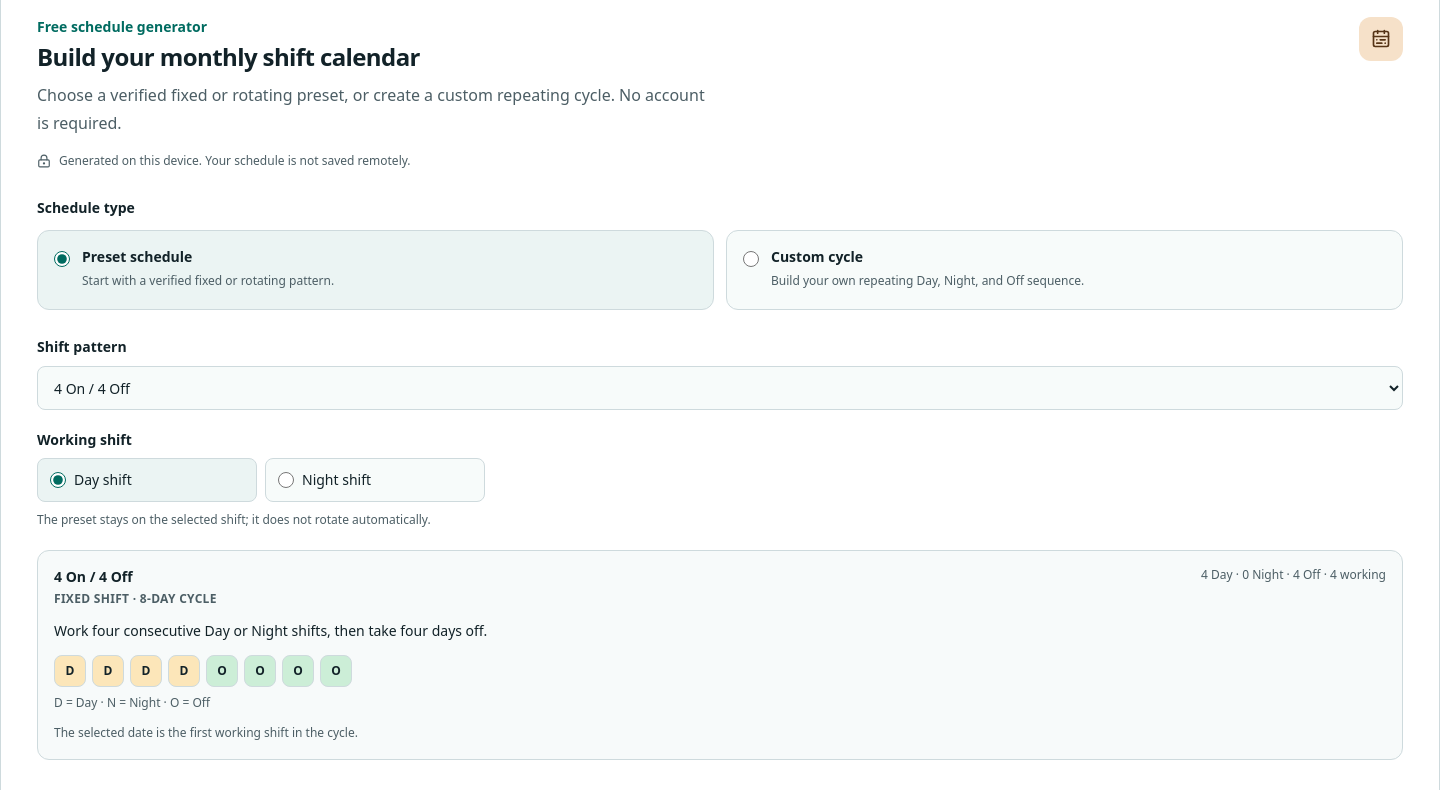
Test case: optional personal shift details › shows both definitions for rotating and mixed custom schedules
Select "2 Day / 2 Night / 4 Off" in the dropdown labelled "Shift pattern" at (720, 388), box [37,366,1403,410]
(page scrolled)
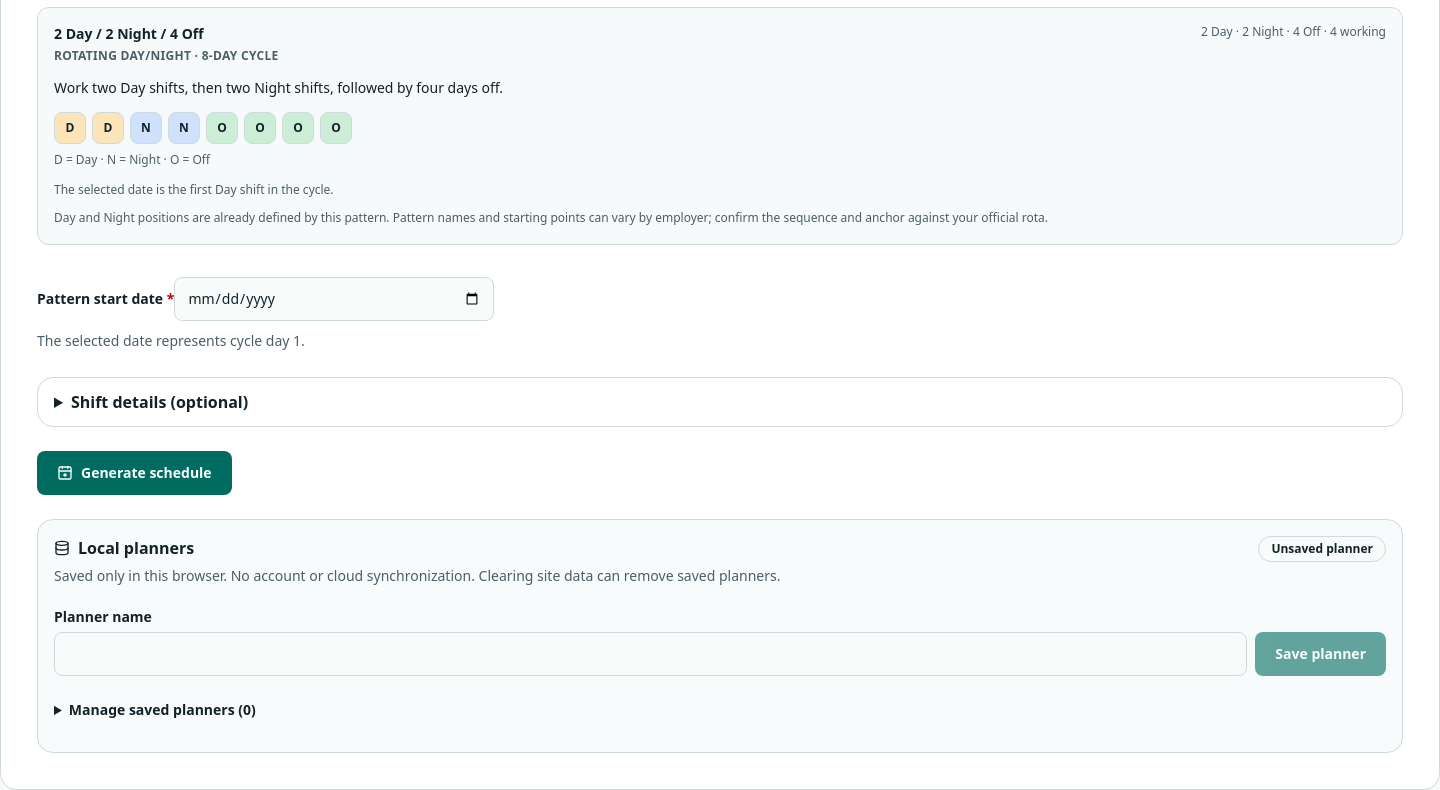
Click the heading "Shift details (optional)" at (160, 402), box [71,391,248,413]
(page scrolled)
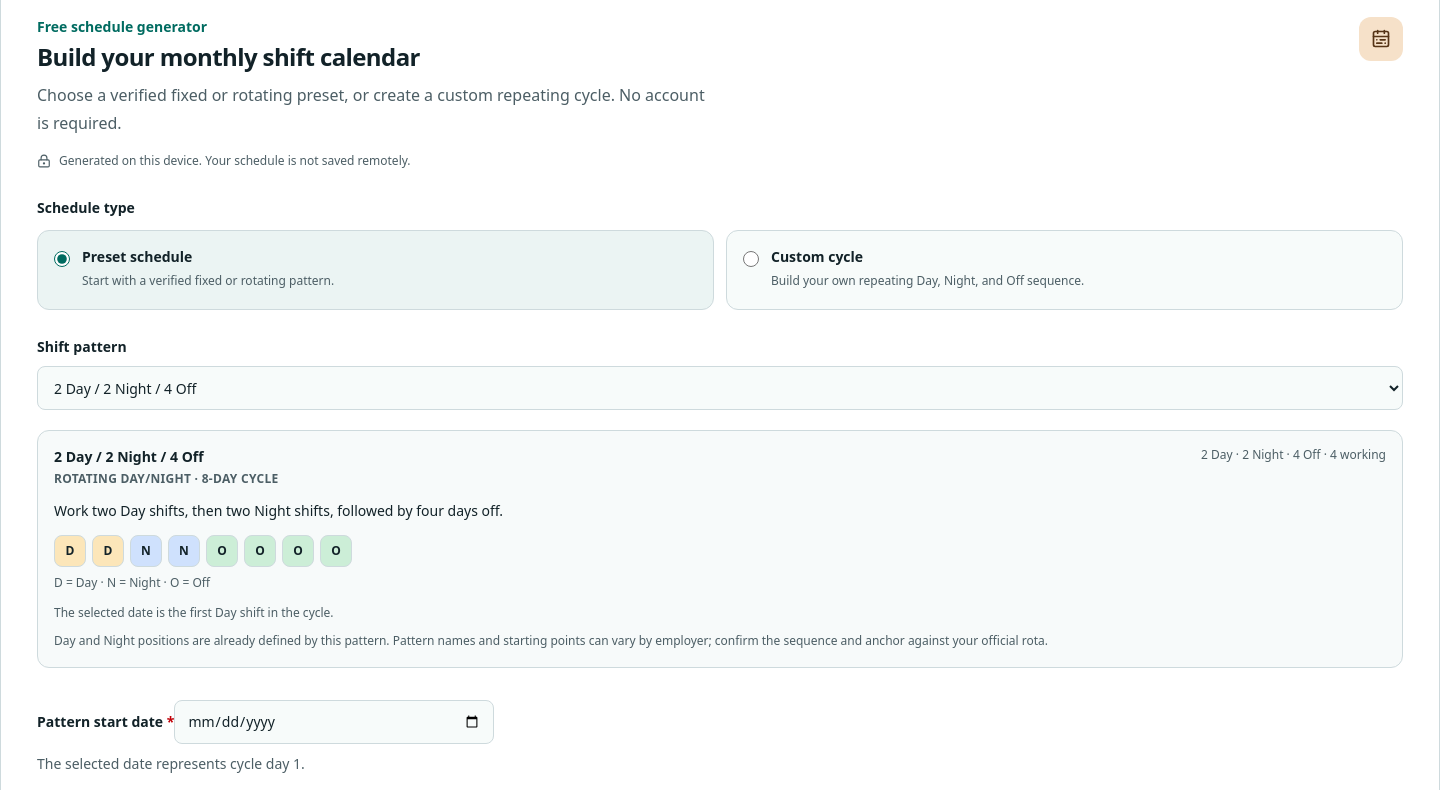
Click the radio button labelled "Custom cycle" at (751, 259), box [743,251,759,267]
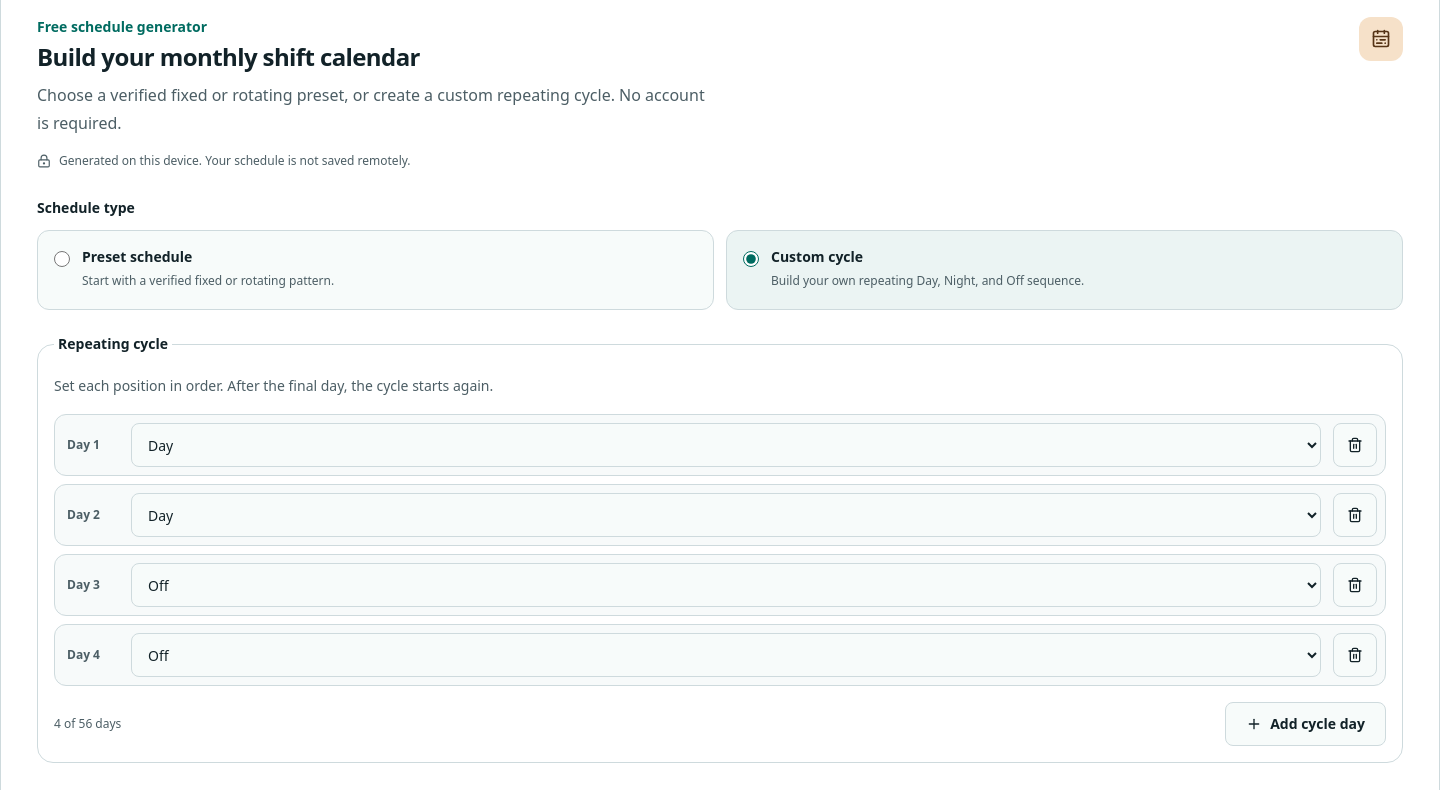
Select "Night" in the 2nd dropdown named "shift for cycle day 2" at (726, 515), box [131,493,1321,537]
(page scrolled)
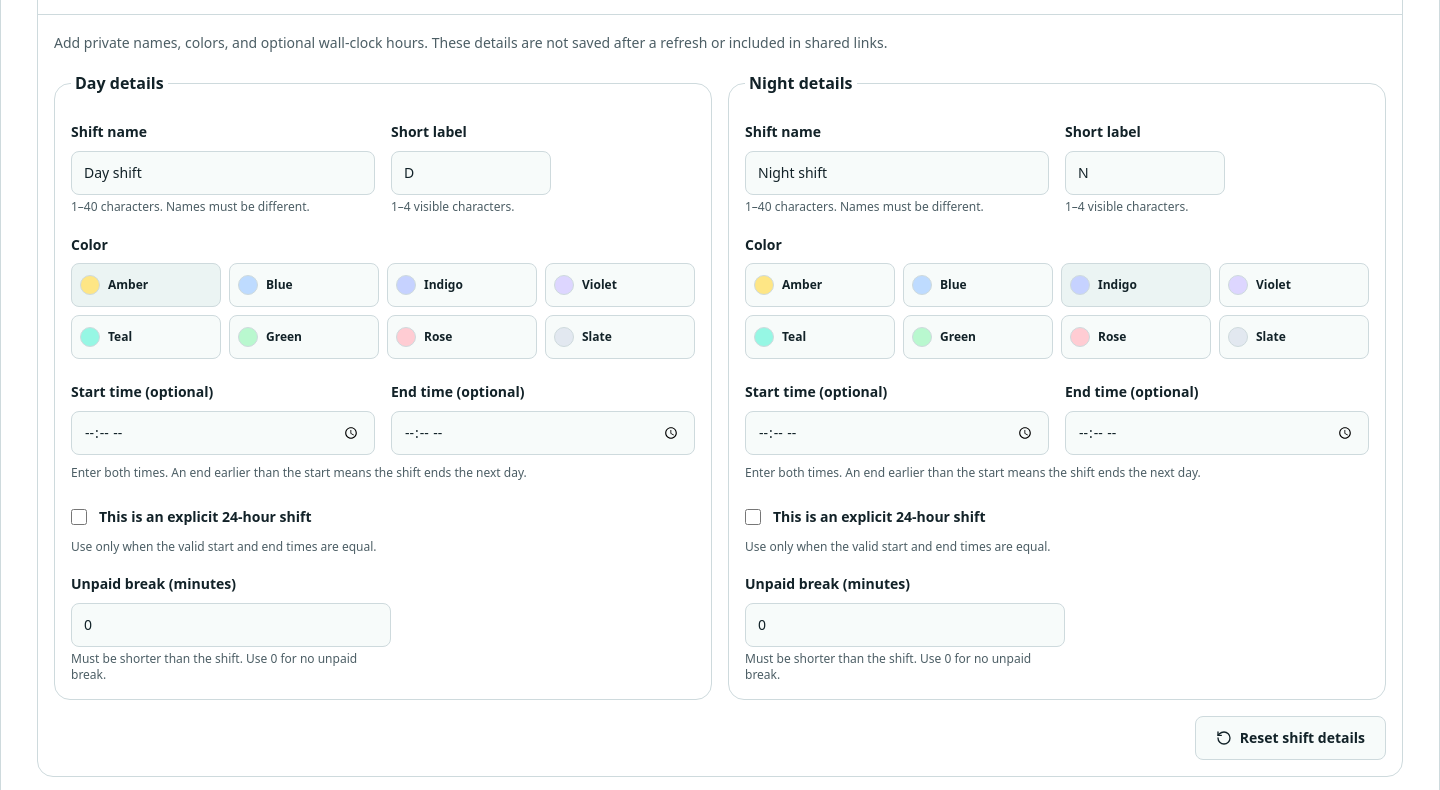
Check: the element "Day details" is shown, box [54,71,712,700]
Check: the element "Night details" is shown, box [728,71,1386,700]
